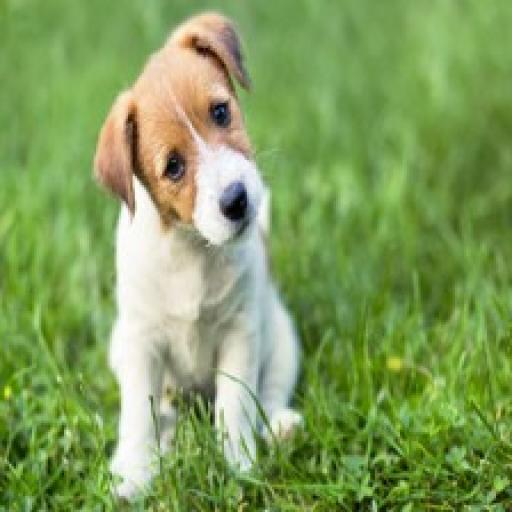dog: (91, 10, 312, 512)
